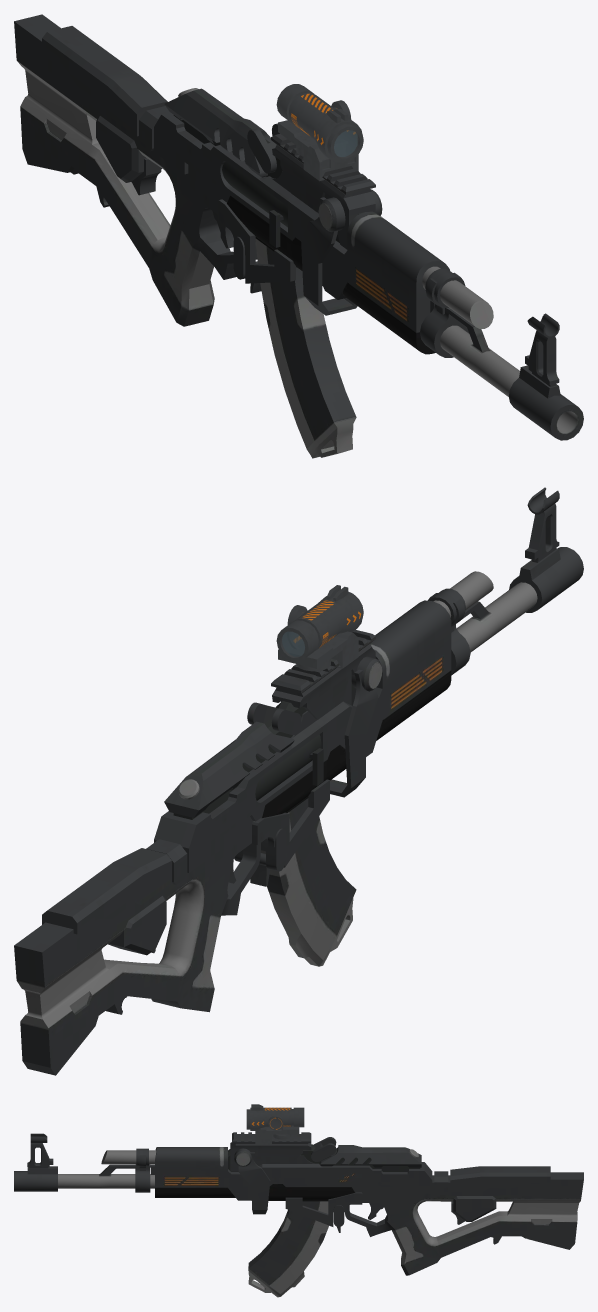
The model's file is rifle-2.glb.
The picture shows the model from 3 angles, top to bottom: view 1: azimuth 30°, elevation 25°; view 2: azimuth 150°, elevation 25°; view 3: azimuth 270°, elevation 25°; orthographic projection. The views are drawn at different scales.
Parts seen in each view (by area): view 1: Cube.007_Material_0, Cylinder.002_Scope.001_0; view 2: Cube.007_Material_0, Cylinder.002_Scope.001_0; view 3: Cube.007_Material_0, Cylinder.002_Scope.001_0.
Part boxes in pixels (x1,y1,x2,y2): Cube.007_Material_0: (14,14,583,458); Cylinder.002_Scope.001_0: (276,84,363,181); Cube.007_Material_0: (14,487,583,1075); Cylinder.002_Scope.001_0: (276,585,363,671); Cube.007_Material_0: (14,1132,583,1297); Cylinder.002_Scope.001_0: (246,1104,304,1144).
Bounding box in the file's own units: 0.5236 × 3.58 × 9.73.
Materials: 2 (2 with a texture image).
